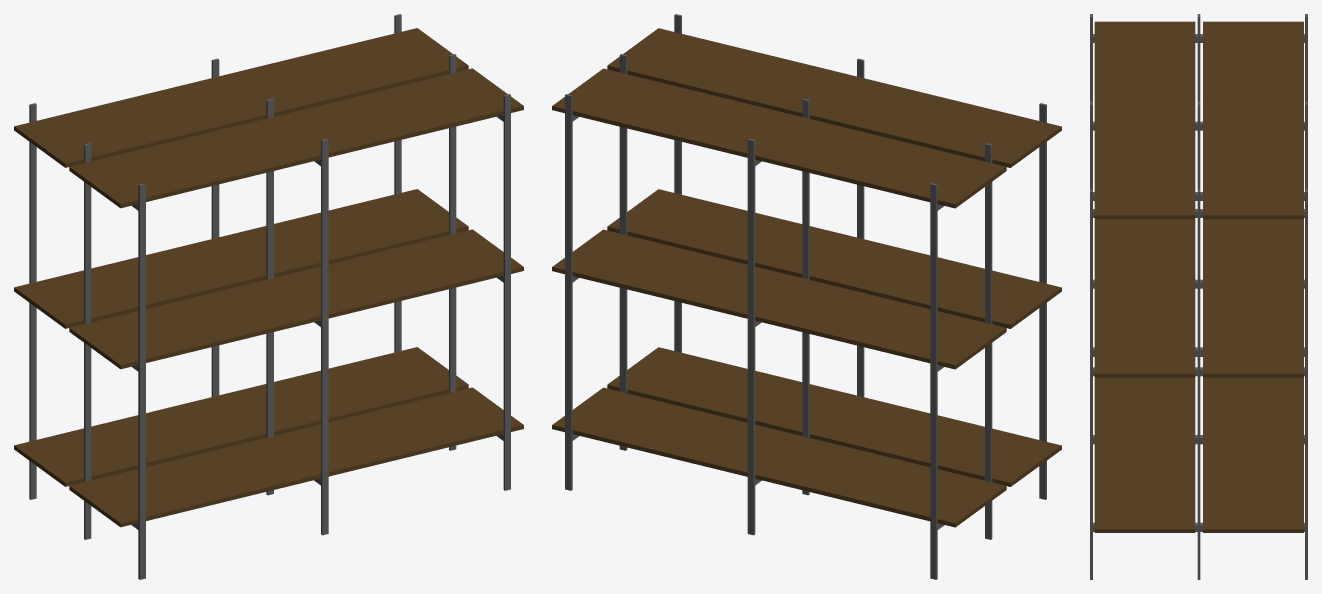
The model's file is Estanteria (1).fbx.
3 views of the same model, side by side, from view 1: azimuth 30°, elevation 25°; view 2: azimuth 150°, elevation 25°; view 3: azimuth 270°, elevation 25° (orthographic).
Visible parts, largest first — view 1: Box062, Object187; view 2: Box062, Object187; view 3: Box062, Object187.
Part boxes in pixels (bbox=[...]): Box062: bbox=[14, 28, 523, 527]; Object187: bbox=[29, 14, 510, 579]; Box062: bbox=[552, 28, 1061, 527]; Object187: bbox=[565, 14, 1046, 579]; Box062: bbox=[1094, 21, 1303, 532]; Object187: bbox=[1090, 14, 1307, 579].
Size of the model in its own units: 20.61 by 19.26 by 9.8.
